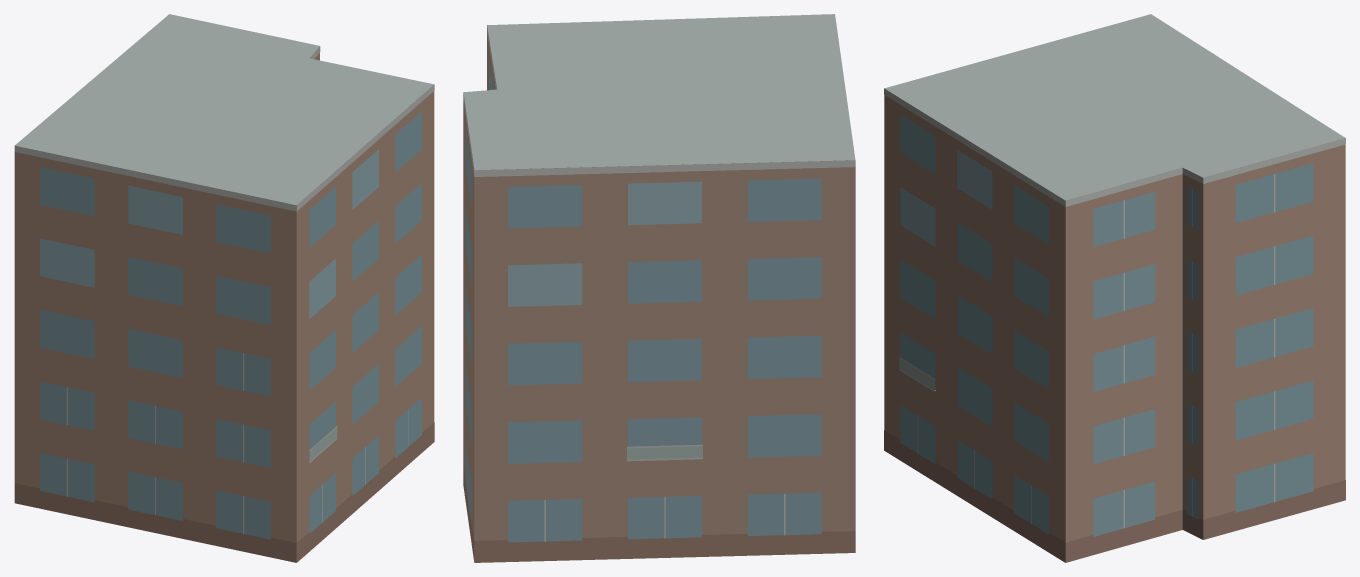
Rendered from survey-upis-32924945.glb.
3 renders of one model, left to right at view 1: azimuth 30°, elevation 25°; view 2: azimuth 150°, elevation 25°; view 3: azimuth 270°, elevation 25°, orthographic. The views are drawn at different scales.
Visible parts, largest first — view 1: survey-upis-32924945.tmp; view 2: survey-upis-32924945.tmp; view 3: survey-upis-32924945.tmp.
Part boxes in pixels (x1,y1,x2,y2): survey-upis-32924945.tmp: (14,14,434,562); survey-upis-32924945.tmp: (463,14,855,562); survey-upis-32924945.tmp: (884,14,1345,562).
Bounding box in the file's own units: 15.37 × 13.9 × 16.06.
